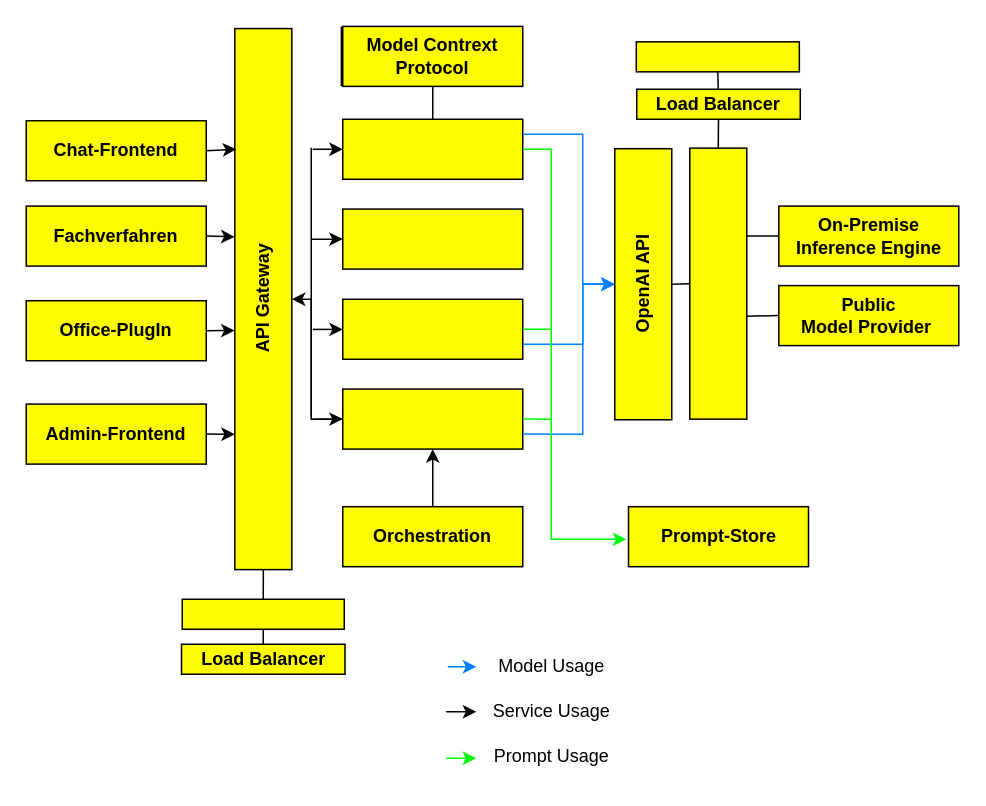
Image size: 986x806. Some labels were removed from this diagram. The shapes that lost their labels are listed below. From the top down, each one's centre as x and y in pixels, then its label:
At (x=717, y=56): "Model Registry".
At (x=432, y=148): "RAG".
At (x=432, y=238): "Tools".
At (x=717, y=283): "LLM Gateway".
At (x=432, y=328): "Task based Services".
At (x=432, y=418): "Agents".
At (x=262, y=613): "Service Registry".
